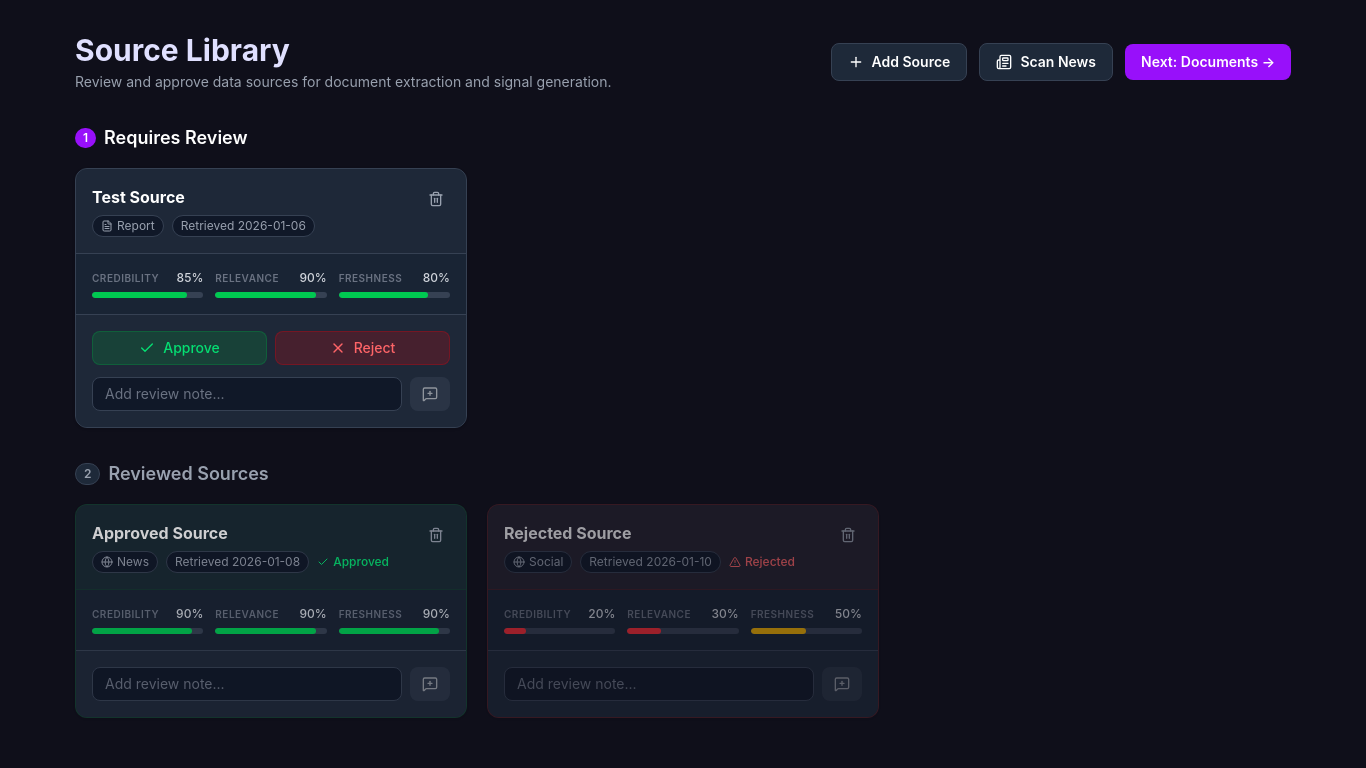
Test: SourceLibrary component › deletes a source from the UI
The width and height of the screenshot is (1366, 768).
What coordinates should you click on to do the following:
click the button named "delete source" in the row of "Test Source"
I would click on:
 (436, 199)
Its box is [422,185,450,213].
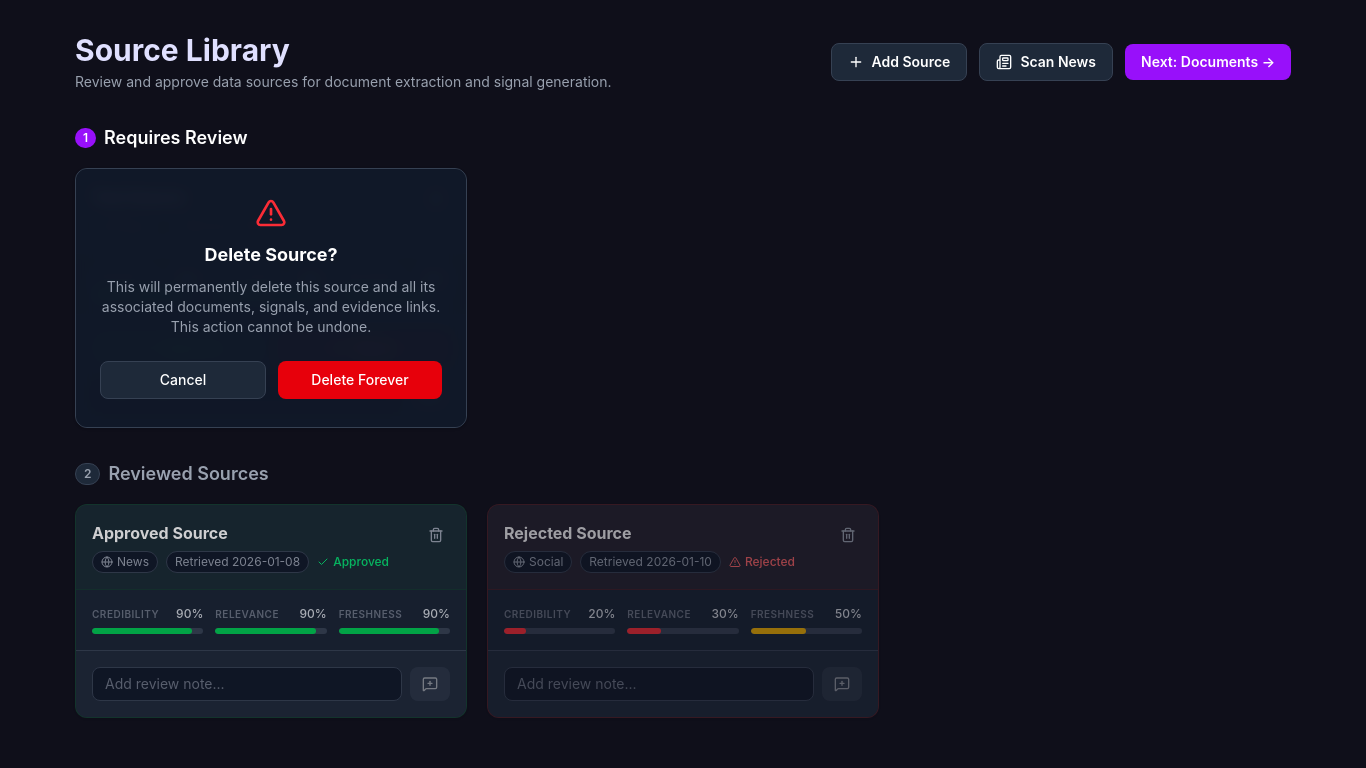
Note: Wait for the confirmation modal and click the confirm button
What coordinates should you click on to do the following:
click the button "Delete Forever"
I would click on:
 (360, 380)
Its box is [278,361,442,399].
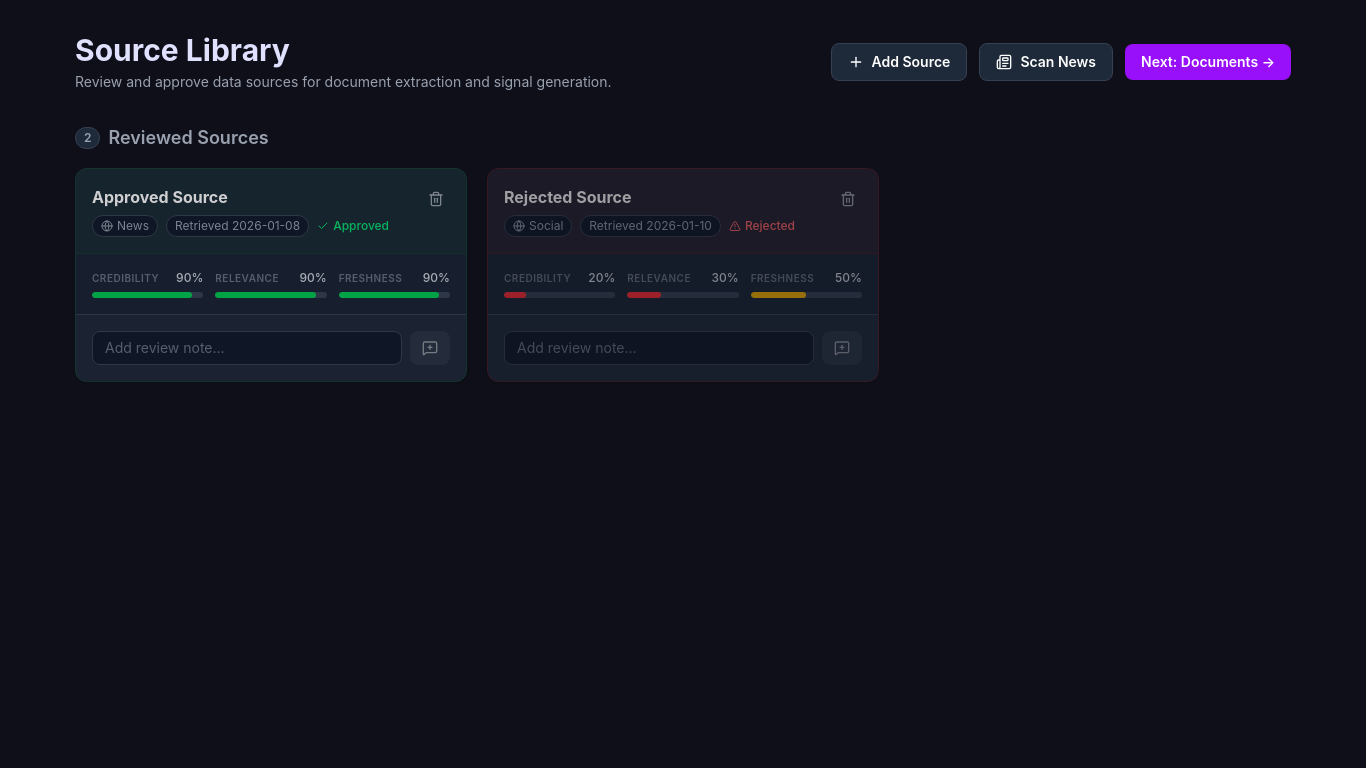
Expected: the heading "Test Source" is gone
